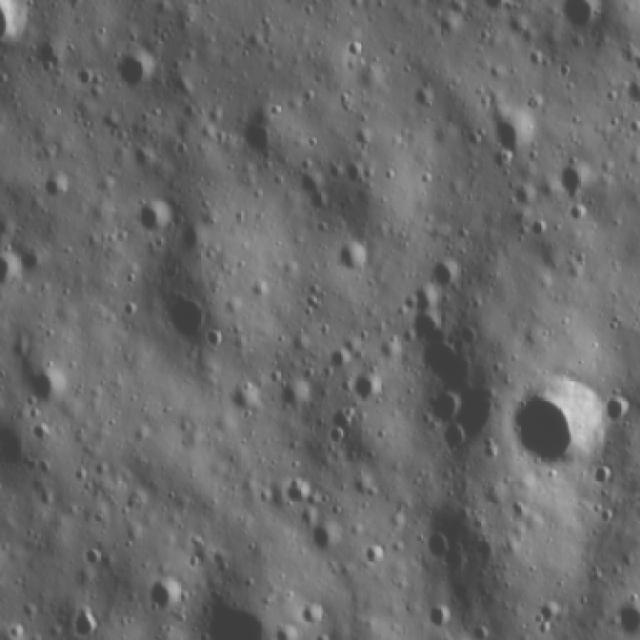crater: (508, 367, 610, 476), (143, 276, 222, 364), (194, 584, 271, 640), (487, 102, 541, 160), (137, 573, 188, 618), (20, 360, 66, 409), (109, 46, 160, 88), (552, 162, 596, 209), (398, 308, 458, 342), (132, 198, 180, 240), (552, 1, 605, 38), (330, 244, 375, 284), (304, 516, 348, 556), (238, 119, 277, 163), (420, 523, 455, 572), (58, 604, 102, 638), (419, 596, 458, 633), (428, 384, 466, 421), (349, 365, 383, 406), (438, 422, 473, 460), (295, 592, 334, 626), (280, 470, 314, 508), (428, 257, 462, 294), (39, 171, 76, 203), (532, 596, 566, 624), (607, 393, 631, 429), (585, 466, 618, 489), (72, 60, 96, 91), (360, 542, 386, 569), (273, 620, 301, 640)
